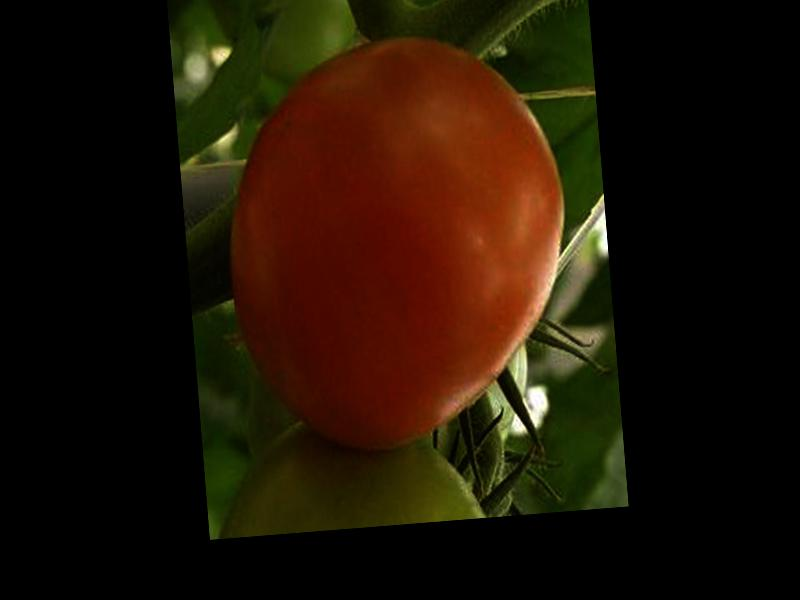Tomato: (213, 25, 583, 458)
